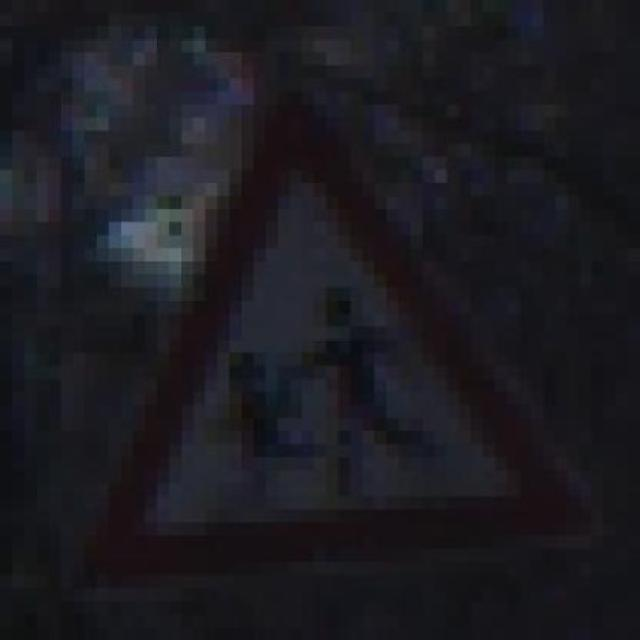Beware of children: (60, 94, 580, 577)
